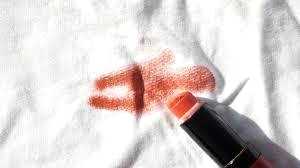lipstick: (85, 59, 219, 114)
